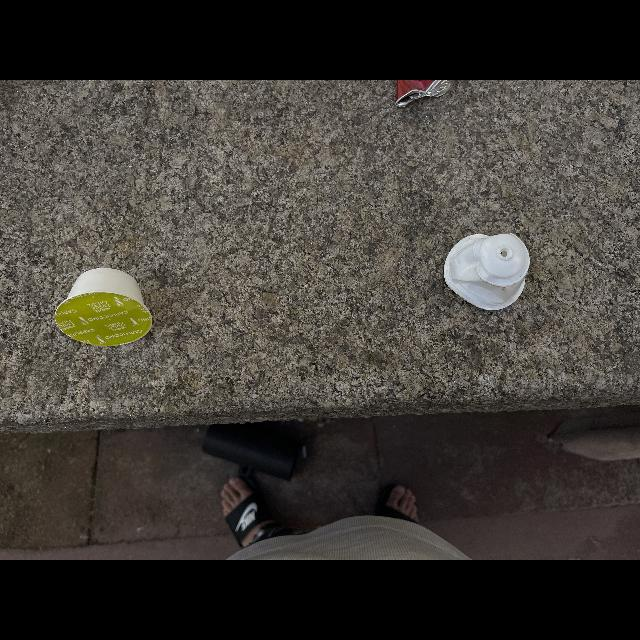damaged_capsule: (430, 222, 548, 328)
intact_capsule: (52, 259, 158, 359)
